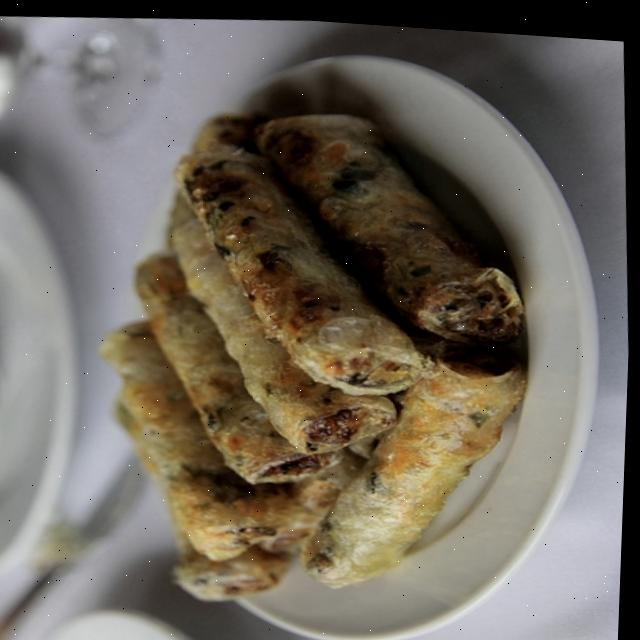炸货点心: (70, 34, 606, 640)
